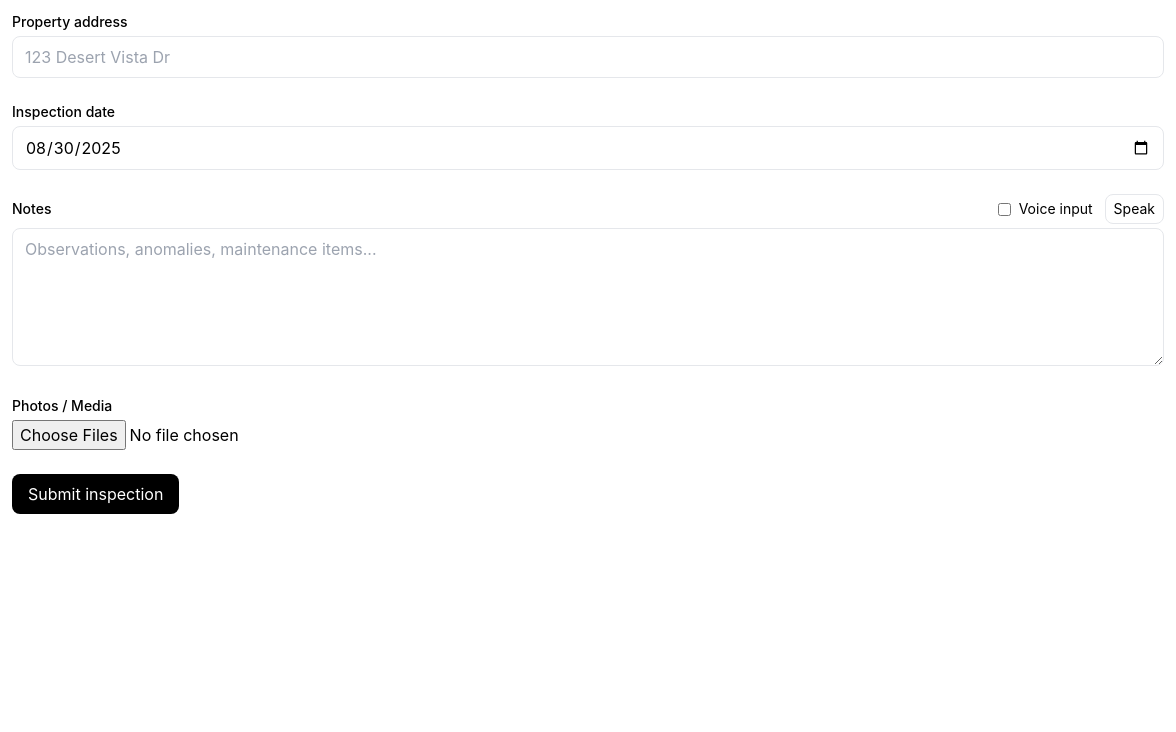
InspectionForm › records text via Web Speech API
Click the checkbox labelled "Voice input": point(1004, 209) [998,202,1011,216]
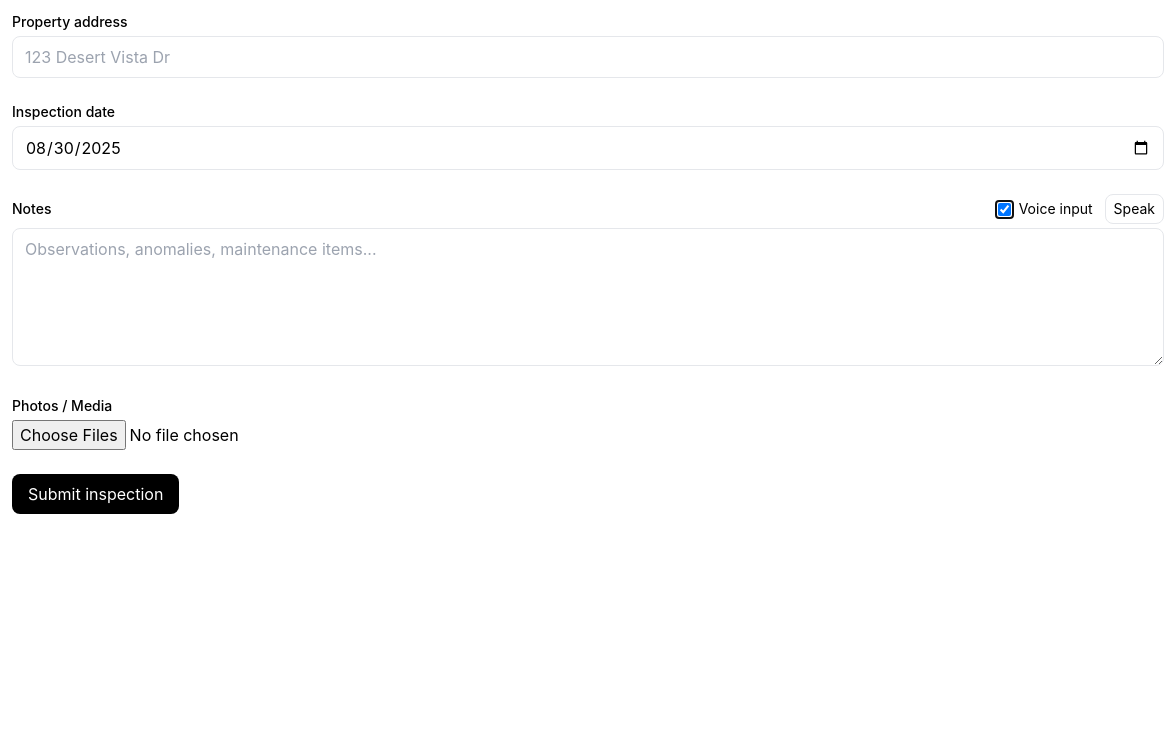
Click the button "Speak": point(1134, 209) [1105,194,1164,224]
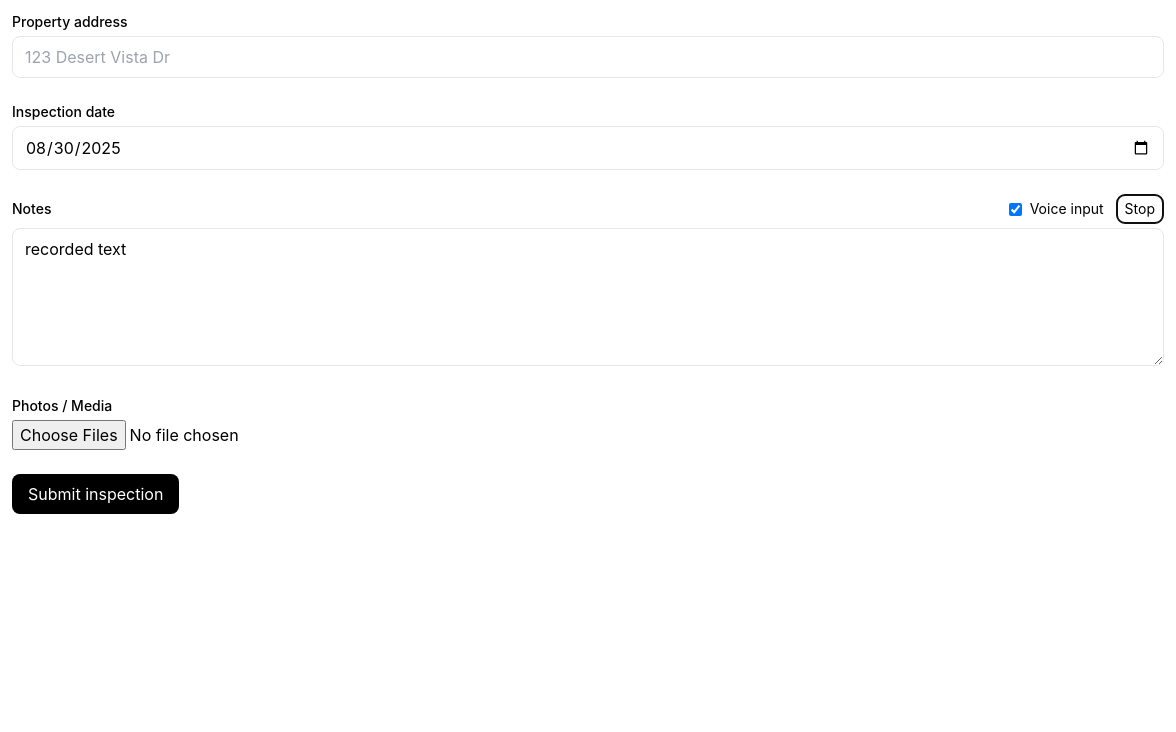
Now the text box with placeholder "Observations, anomalies, maintenance items..." holds "recorded text", box [12,228,1164,366]
